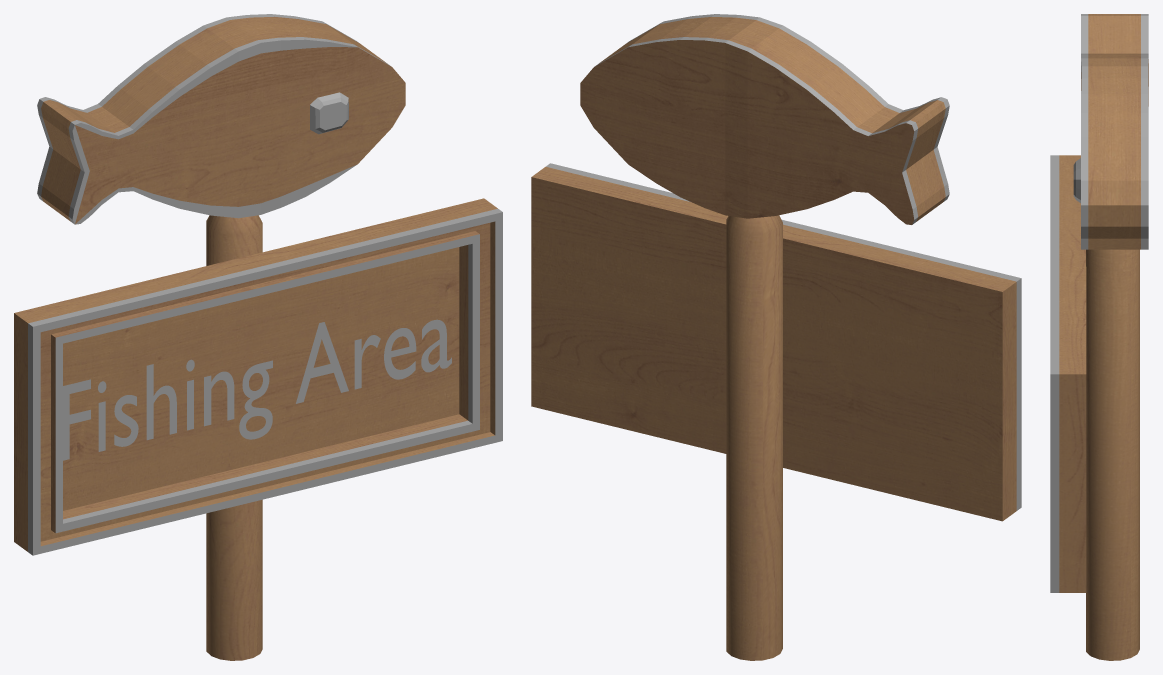
File: Fishing-Sign.fbx
3 views of the same model, side by side, from view 1: azimuth 30°, elevation 25°; view 2: azimuth 150°, elevation 25°; view 3: azimuth 270°, elevation 25° (orthographic). The views are drawn at different scales.
Visible parts, largest first — view 1: Fishing-Sign; view 2: Fishing-Sign; view 3: Fishing-Sign.
Part boxes in pixels (<box>): Fishing-Sign: <box>14,14,502,660</box>; Fishing-Sign: <box>531,14,1021,660</box>; Fishing-Sign: <box>1050,14,1148,660</box>.
Size of the model in its own units: 430 by 538 by 81.32.
Materials: 2 (1 with a texture image).
